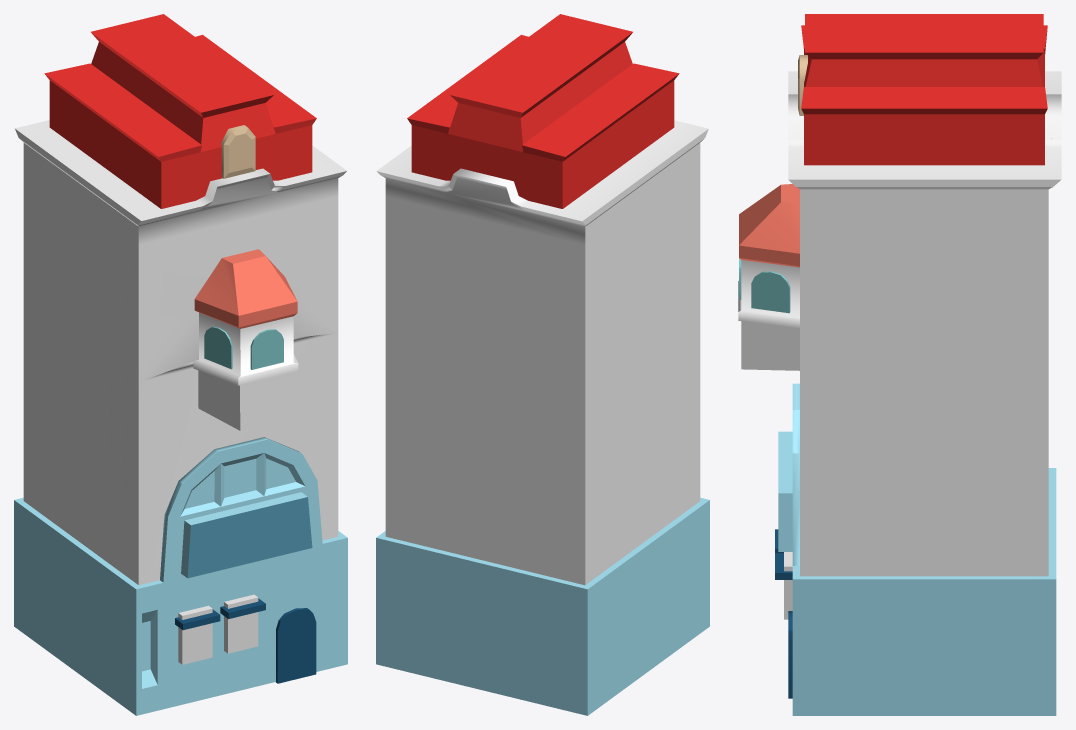
3 renders of one model, left to right at view 1: azimuth 30°, elevation 25°; view 2: azimuth 150°, elevation 25°; view 3: azimuth 270°, elevation 25°, orthographic. The views are drawn at different scales.
Visible parts, largest first — view 1: Box002, Box001, Box003, Box008, Box012, Box004, Box005, Box009, Box010; view 2: Box002, Box001, Box003; view 3: Box002, Box001, Box003, Box011.
Boxes of the visible parts, left/top/right/bottom form: Box002: left=15, top=120, right=346, bottom=585; Box001: left=14, top=437, right=347, bottom=715; Box003: left=44, top=14, right=316, bottom=208; Box008: left=276, top=608, right=316, bottom=683; Box012: left=221, top=125, right=255, bottom=178; Box004: left=178, top=605, right=212, bottom=664; Box005: left=224, top=594, right=258, bottom=653; Box009: left=250, top=329, right=283, bottom=369; Box010: left=204, top=326, right=232, bottom=369; Box002: left=376, top=120, right=708, bottom=585; Box001: left=376, top=497, right=709, bottom=715; Box003: left=407, top=14, right=679, bottom=208; Box002: left=738, top=71, right=1061, bottom=576; Box001: left=778, top=383, right=1056, bottom=715; Box003: left=801, top=14, right=1047, bottom=165; Box011: left=751, top=271, right=790, bottom=313.
Size of the model in its own units: 35 by 91.97 by 42.87.
7 materials, 2 textured.
